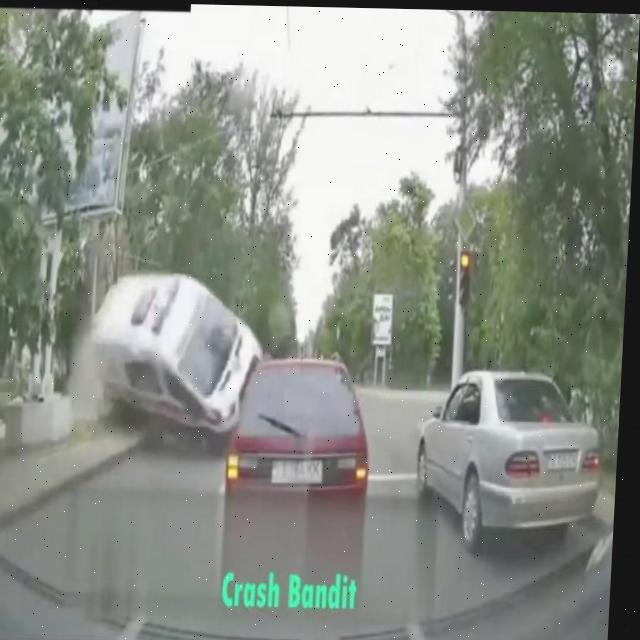multiple_accident: (43, 230, 417, 580)
